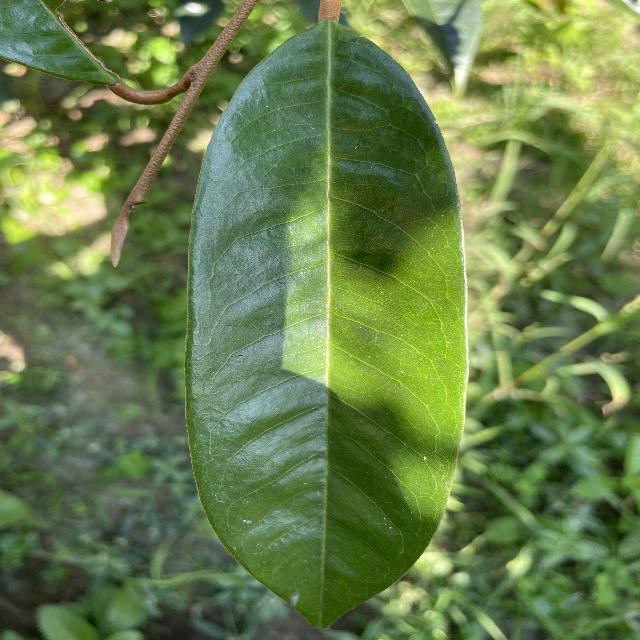No Disease: (177, 13, 478, 639)
